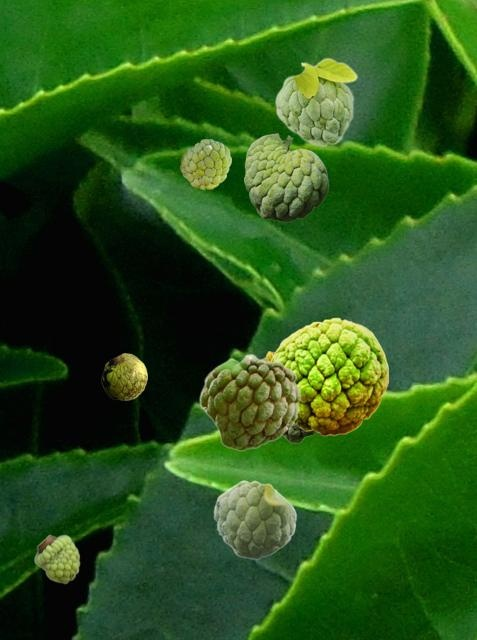atis: (270, 317, 387, 435), (198, 353, 300, 450), (274, 57, 357, 146), (244, 133, 327, 221), (213, 480, 296, 558), (263, 350, 316, 442), (180, 139, 230, 188), (34, 534, 79, 583), (101, 353, 146, 399)
